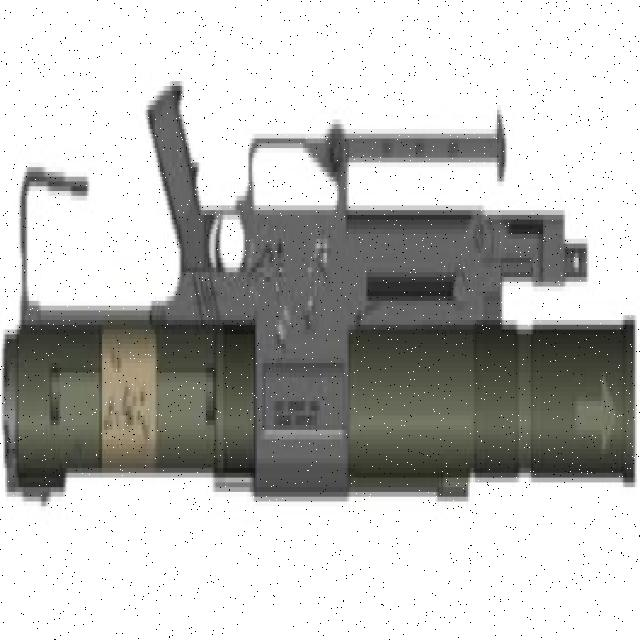bazooka: (1, 81, 640, 532)
